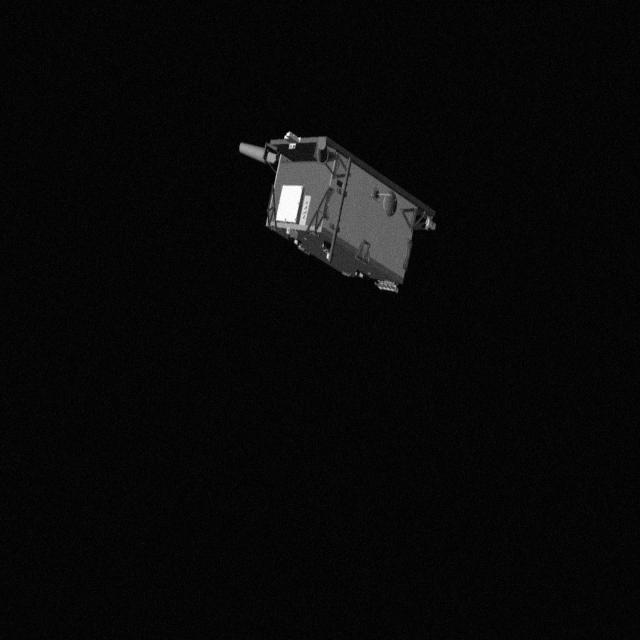satellite: (242, 124, 454, 294)
